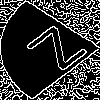Z: (25, 24, 100, 79)
